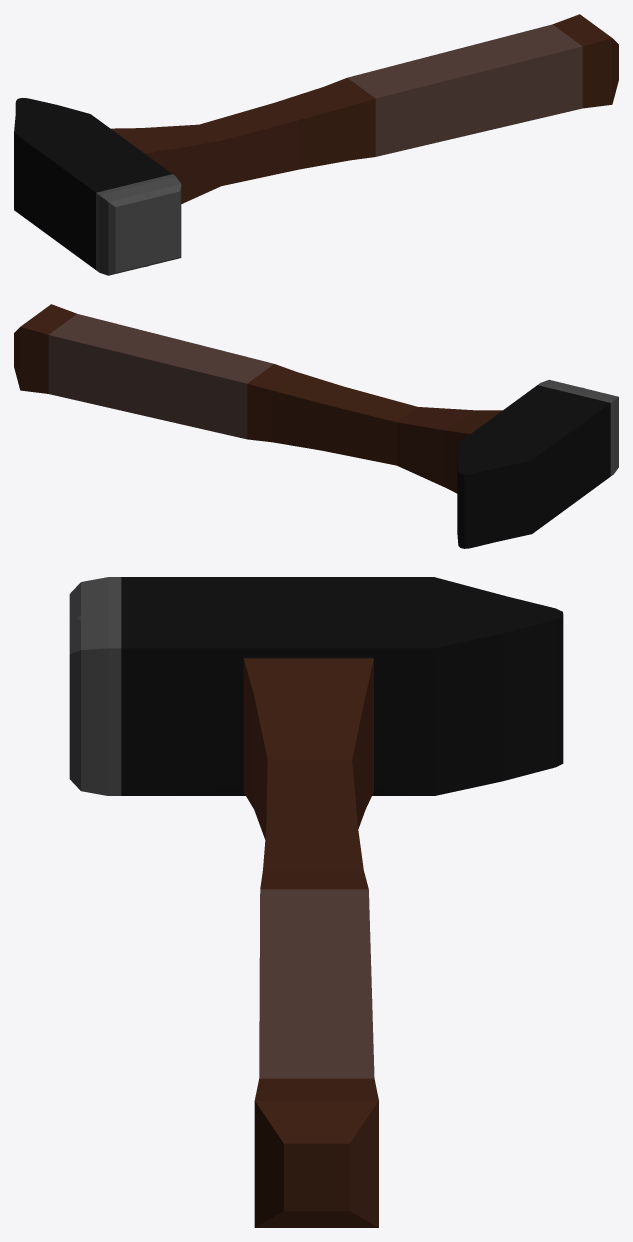
Rendered from Hammer.fbx.
3 renders of one model, top to bottom at view 1: azimuth 30°, elevation 25°; view 2: azimuth 150°, elevation 25°; view 3: azimuth 270°, elevation 25°, orthographic. The views are drawn at different scales.
Visible parts, largest first — view 1: Hammer; view 2: Hammer; view 3: Hammer.
Part boxes in pixels (left/top/right/bottom): Hammer: left=14, top=14, right=618, bottom=275; Hammer: left=14, top=304, right=618, bottom=548; Hammer: left=69, top=577, right=563, bottom=1227.
Size of the model in its own units: 38.2 by 5 by 15.14.
